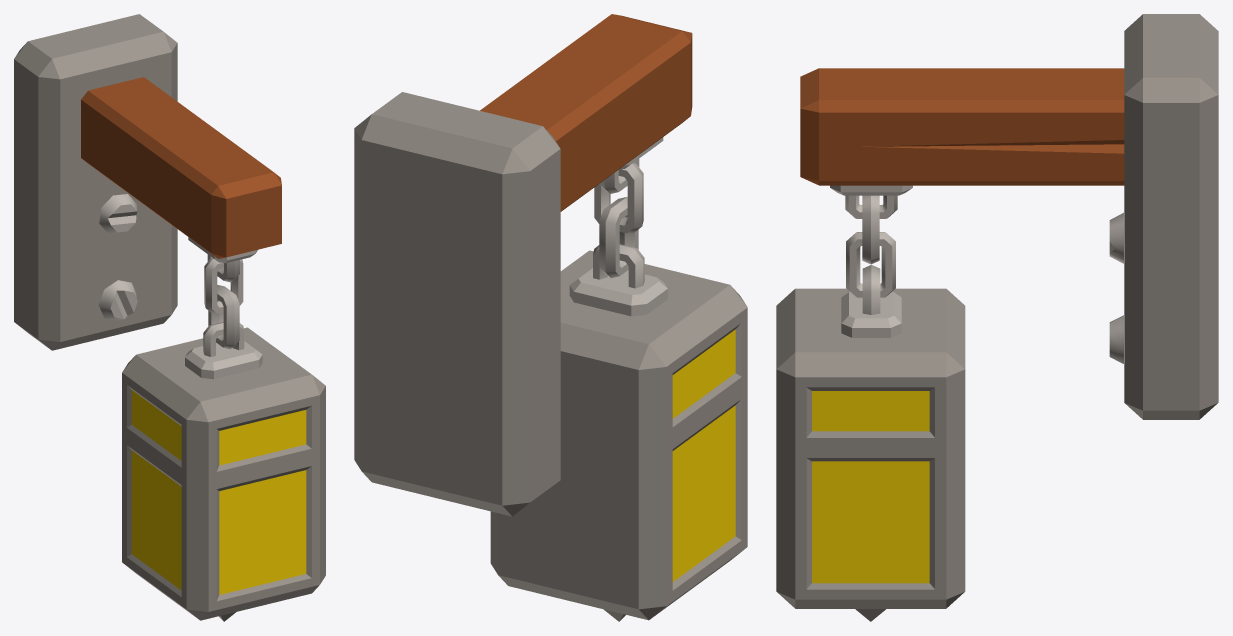
File: m_dec_dung_lamp.fbx
3 views of the same model, side by side, from view 1: azimuth 30°, elevation 25°; view 2: azimuth 150°, elevation 25°; view 3: azimuth 270°, elevation 25° (orthographic). The views are drawn at different scales.
Visible parts, largest first — view 1: m_dec_dung_lamp; view 2: m_dec_dung_lamp; view 3: m_dec_dung_lamp.
Boxes of the visible parts, x1,y1,x2,y2 form: m_dec_dung_lamp: (14,14,325,621); m_dec_dung_lamp: (354,14,747,621); m_dec_dung_lamp: (776,14,1218,621).
Size of the model in its own units: 1 by 3.37 by 2.34.
